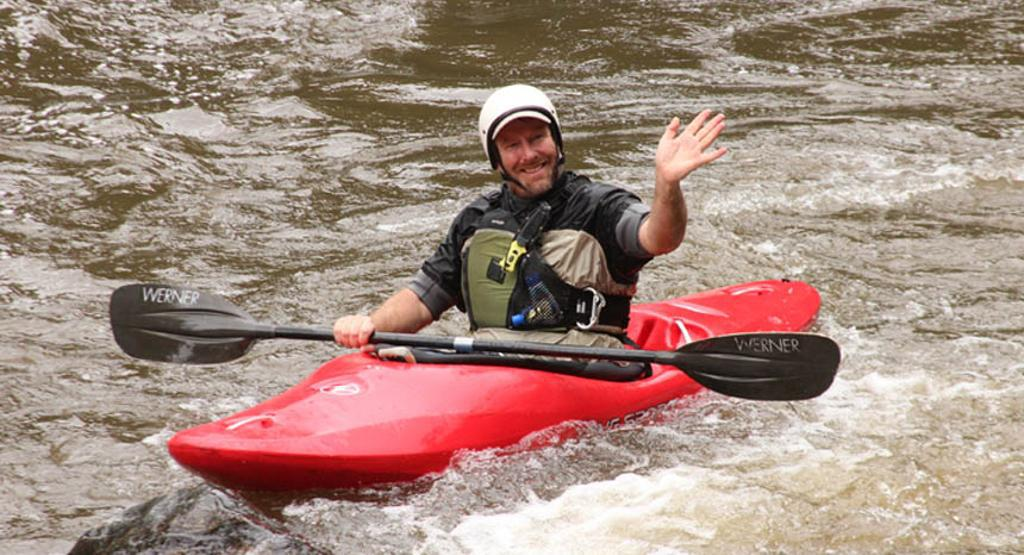face: (499, 103, 559, 191)
